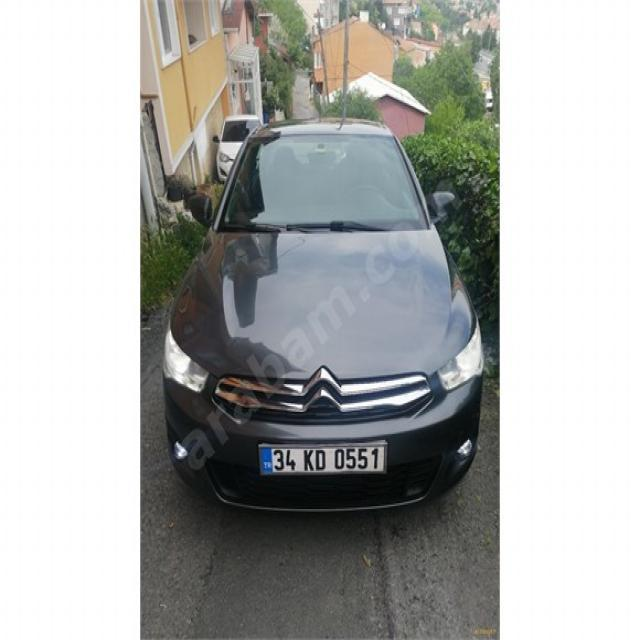plate: (258, 441, 387, 476)
